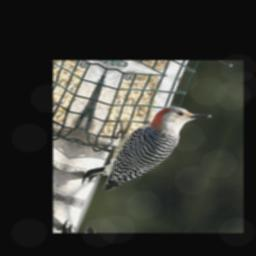Woodpecker: (80, 89, 213, 210)
